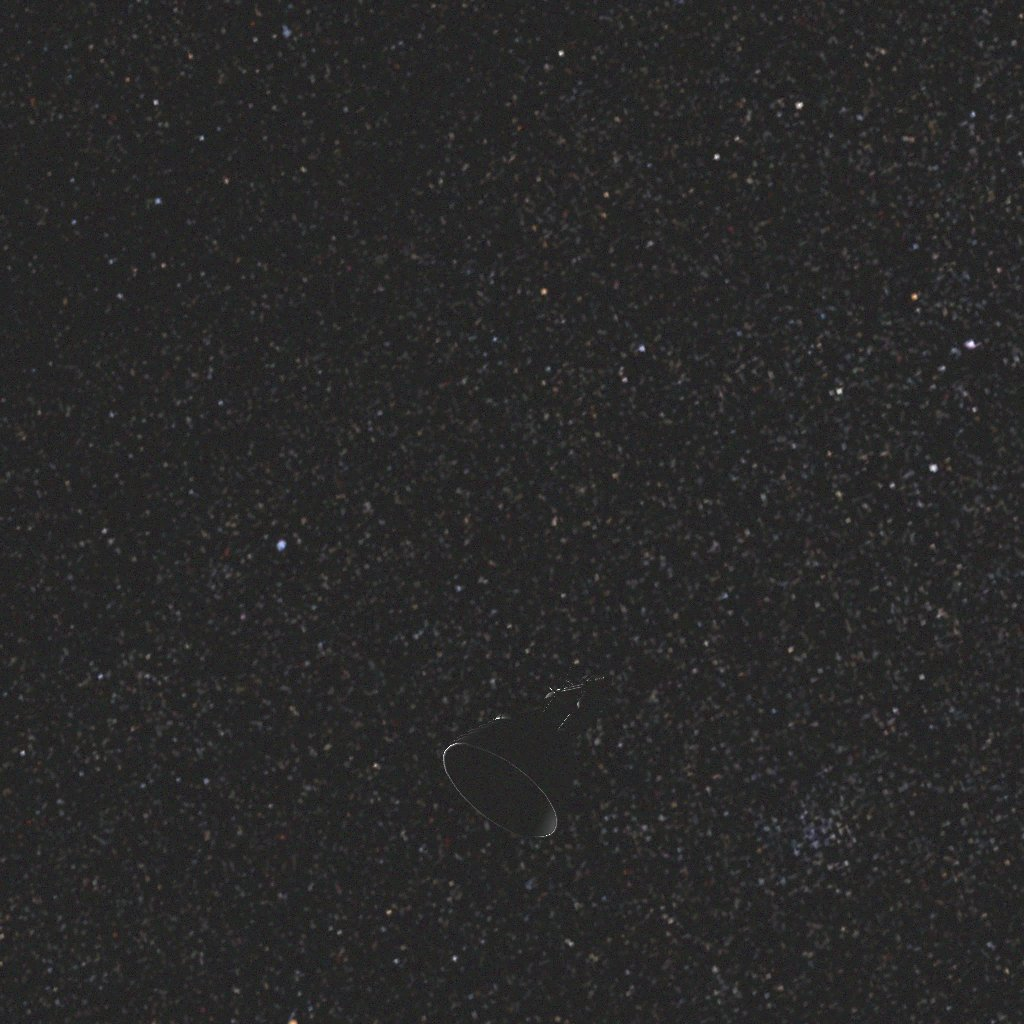debris: (443, 662, 612, 840)
